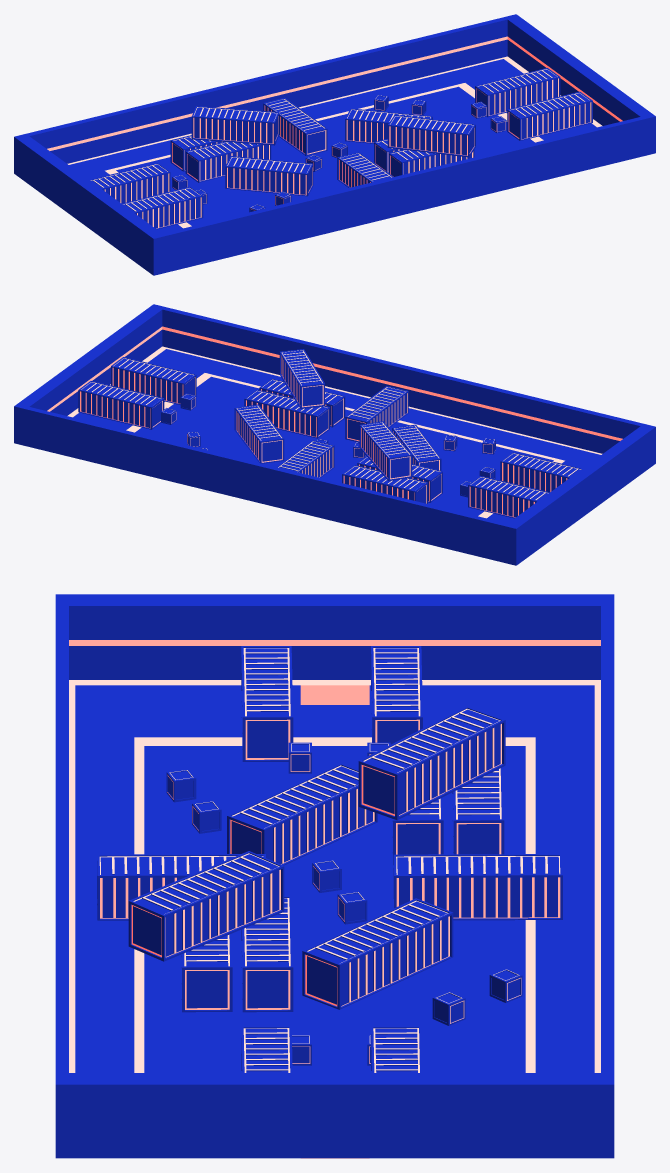
The model's file is Warfacemap.glb.
3 views of the same model, one above another, from view 1: azimuth 30°, elevation 25°; view 2: azimuth 150°, elevation 25°; view 3: azimuth 270°, elevation 25° (orthographic). The views are drawn at different scales.
Visible parts, largest first — view 1: Plane, Cube.015, Cube.014, Cube.011, Cube.001, Cube, Cube.009, Cube.012, Cube.007, Cube.008, Cube.010, Cube.005 (+3 smaller); view 2: Plane, Cube, Cube.001, Cube.004, Cube.008, Cube.015, Cube.010, Cube.009, Cube.014, Cube.013, Cube.006, Cube.012 (+3 smaller); view 3: Plane, Cube.014, Cube.010, Cube.015, Cube.012, Cube.011, Cube.009, Cube.004, Cube.013, Cube.008, Cube.006, Cube.005 (+9 smaller).
Boxes of the visible parts, <box> form: Plane: <box>14,14,655,275</box>; Cube.015: <box>191,106,279,145</box>; Cube.014: <box>387,115,475,157</box>; Cube.011: <box>225,156,313,196</box>; Cube.001: <box>507,91,592,140</box>; Cube: <box>475,68,560,117</box>; Cube.009: <box>122,186,203,229</box>; Cube.012: <box>263,97,327,155</box>; Cube.007: <box>185,142,271,182</box>; Cube.008: <box>89,163,170,203</box>; Cube.010: <box>345,108,432,143</box>; Cube.005: <box>389,149,474,176</box>; Plane: <box>14,304,655,565</box>; Cube: <box>78,381,164,429</box>; Cube.001: <box>111,357,196,404</box>; Cube.004: <box>244,389,329,438</box>; Cube.008: <box>468,476,549,518</box>; Cube.015: <box>359,421,412,481</box>; Cube.010: <box>234,404,284,463</box>; Cube.009: <box>500,452,581,492</box>; Cube.014: <box>279,349,324,408</box>; Cube.013: <box>345,386,408,442</box>; Cube.006: <box>342,465,427,503</box>; Cube.012: <box>277,440,334,477</box>; Plane: <box>55,594,614,1158</box>; Cube.014: <box>128,851,284,961</box>; Cube.010: <box>302,898,453,1009</box>; Cube.015: <box>358,706,505,820</box>; Cube.012: <box>393,854,562,920</box>; Cube.011: <box>227,763,377,865</box>; Cube.009: <box>241,646,293,761</box>; Cube.004: <box>241,896,293,1012</box>; Cube.013: <box>97,854,265,920</box>; Cube.008: <box>371,646,422,744</box>; Cube.006: <box>452,767,504,854</box>; Cube.005: <box>181,934,232,1012</box>.
Size of the model in its own units: 46.01 by 5.21 by 22.16.
